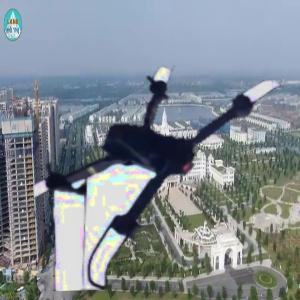drone: (32, 28, 294, 290)
